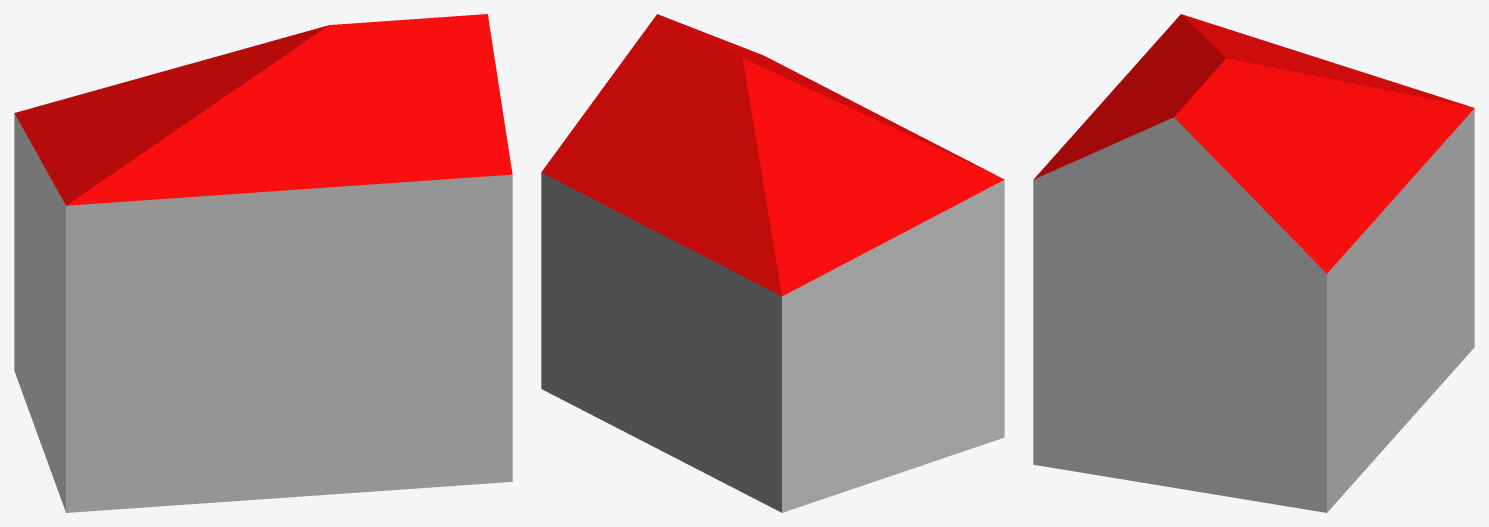
The picture shows the model from 3 angles, left to right: view 1: azimuth 30°, elevation 25°; view 2: azimuth 150°, elevation 25°; view 3: azimuth 270°, elevation 25°; orthographic projection. The views are drawn at different scales.
Bounding box in the file's own units: 5.39 × 4.35 × 4.69.
